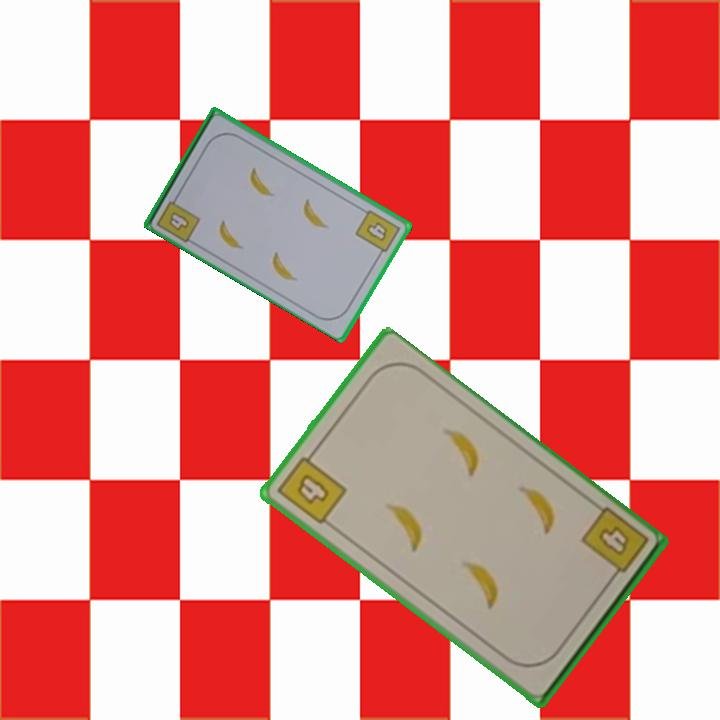4b: (273, 446, 350, 528), (576, 503, 652, 586), (351, 206, 403, 260), (153, 190, 203, 245)
